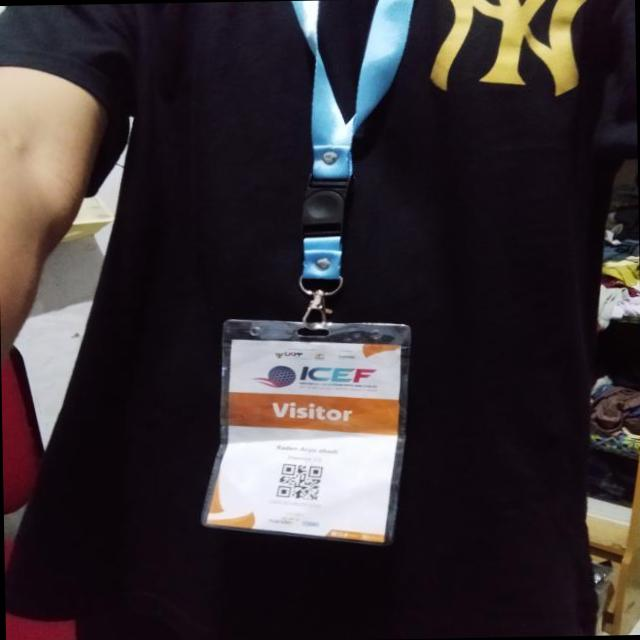id_card: (190, 1, 432, 554)
